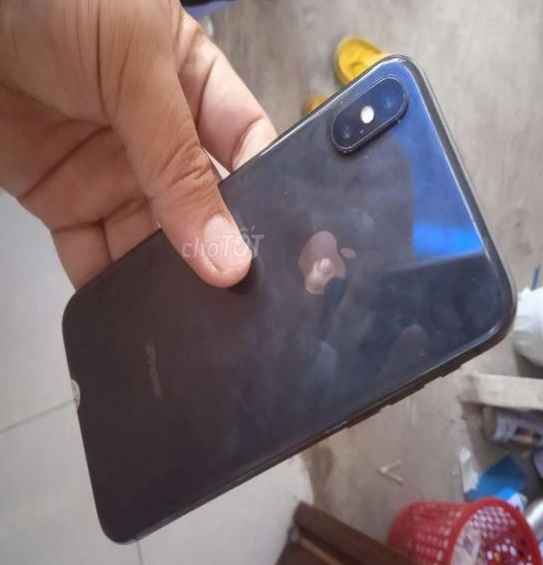scratch: (265, 180, 306, 208), (355, 144, 375, 169), (394, 102, 406, 138), (395, 85, 410, 108), (336, 94, 346, 113)
